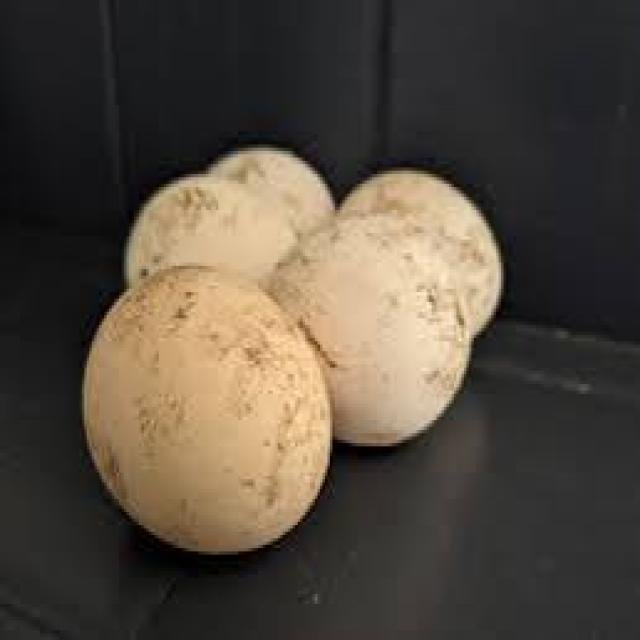Dirt Stained Egg: (71, 250, 352, 560), (283, 203, 488, 439), (337, 176, 530, 328), (110, 161, 280, 294), (228, 150, 342, 246)
